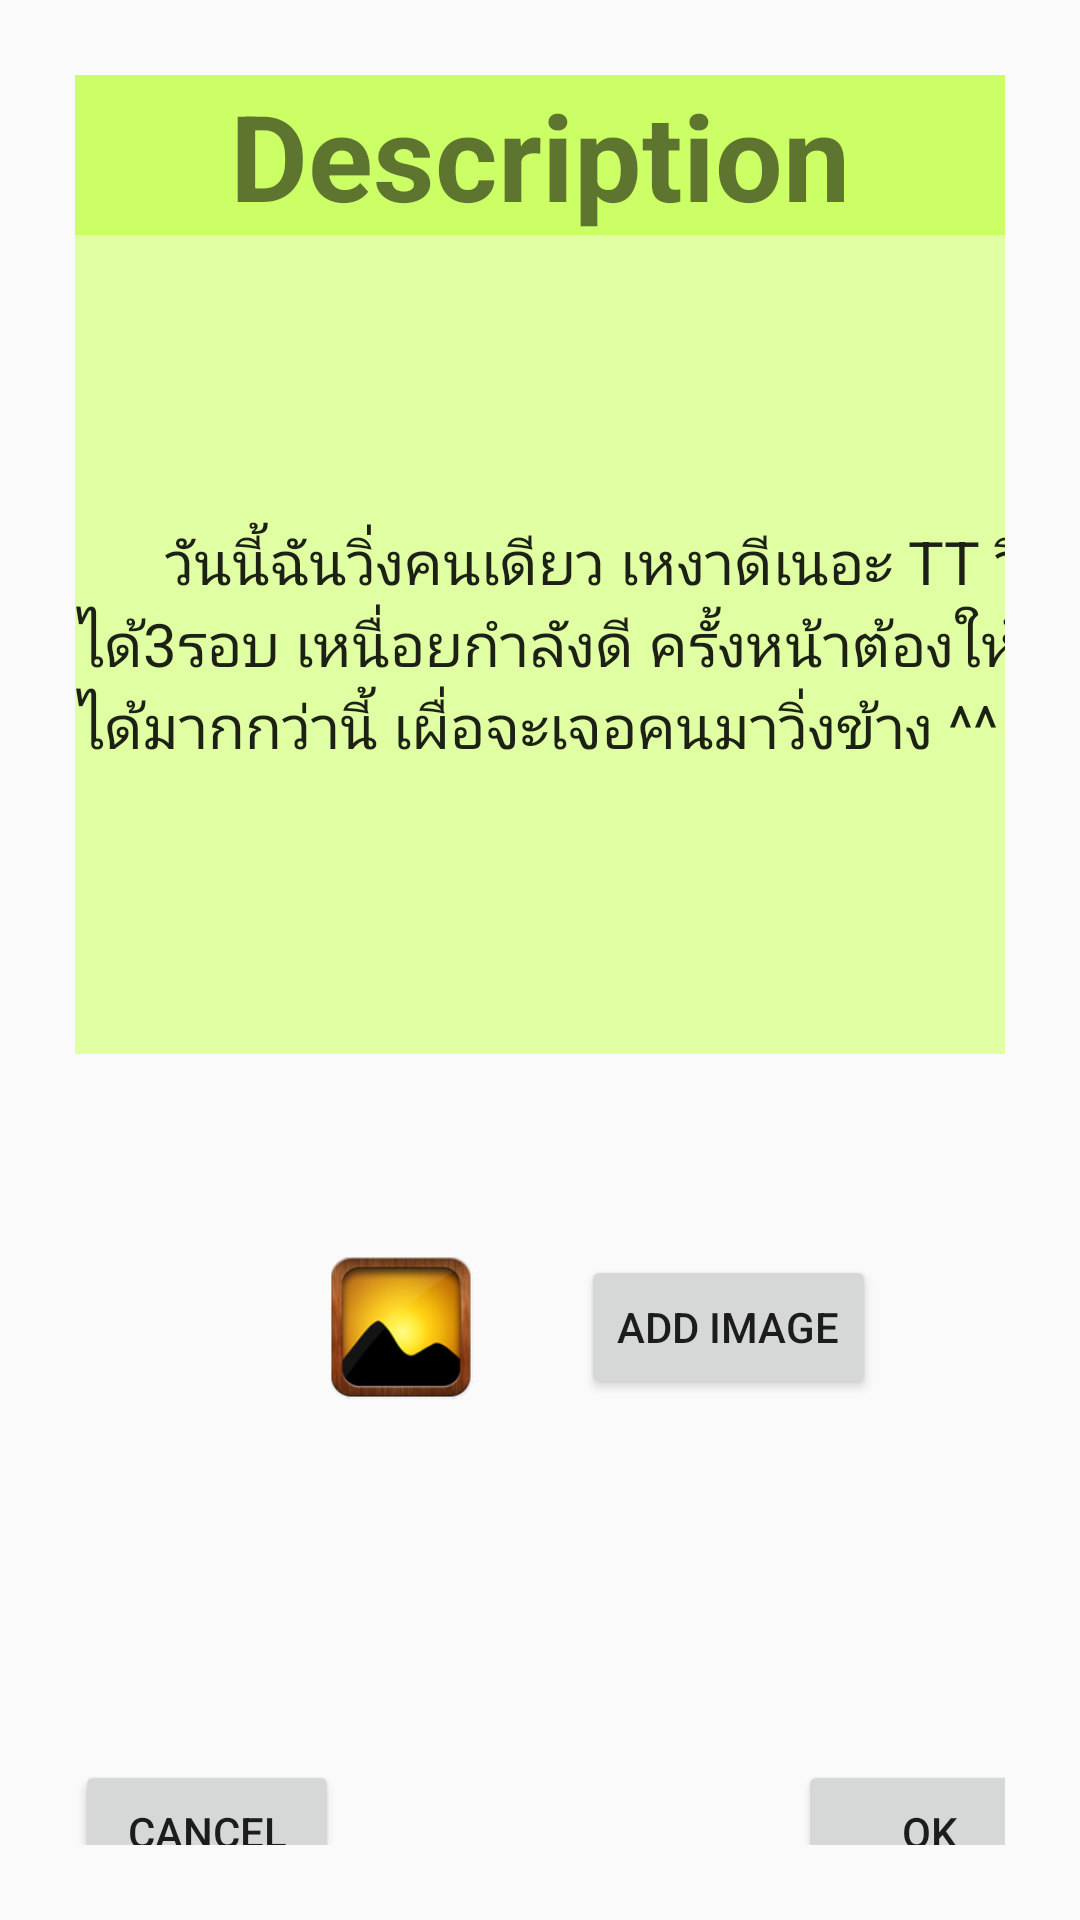

Icon click points for this 1080 x 1920 phone screenshot, format (x=x, y=y):
galleryalt: (x=401, y=1328)
